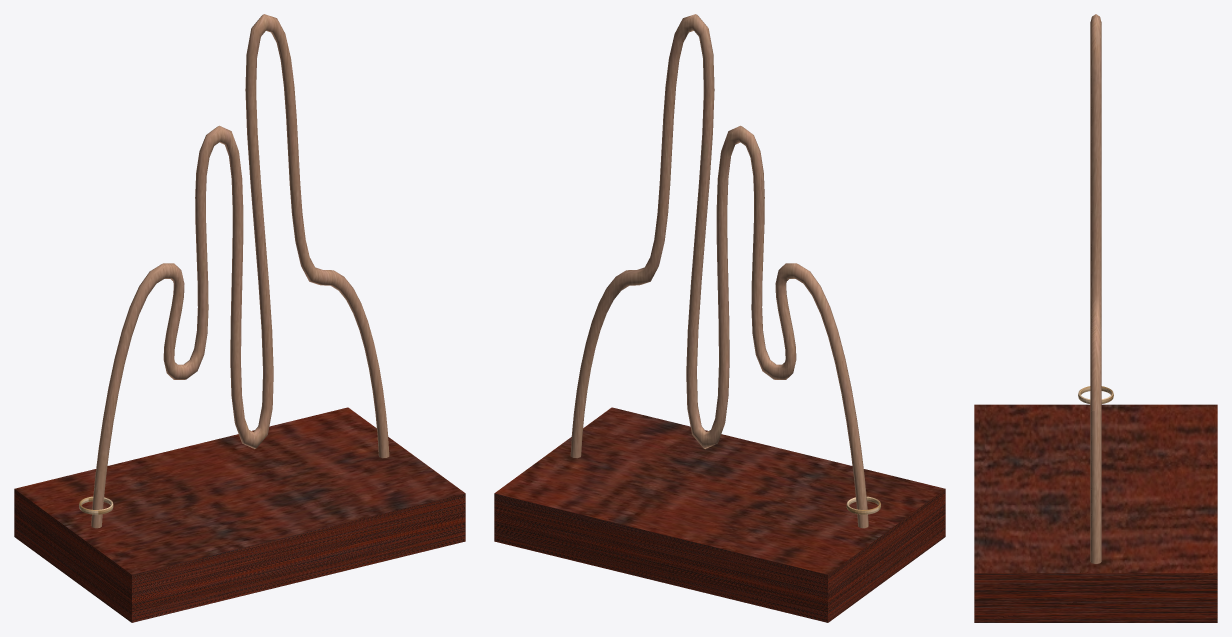
Rendered from WireLoopS.dae.
3 views of the same model, side by side, from view 1: azimuth 30°, elevation 25°; view 2: azimuth 150°, elevation 25°; view 3: azimuth 270°, elevation 25° (orthographic). The views are drawn at different scales.
Parts seen in each view (by area): view 1: Cube_001, Curve; view 2: Cube_001, Curve; view 3: Cube_001, Curve.
Boxes of the visible parts, <box> form: Cube_001: <box>14,407,465,622</box>; Curve: <box>91,14,389,528</box>; Cube_001: <box>494,407,945,622</box>; Curve: <box>570,14,868,528</box>; Cube_001: <box>974,404,1217,622</box>; Curve: <box>1090,14,1101,563</box>.
Bounding box in the file's own units: 7.65 × 4.67 × 11.38.
3 materials, 3 textured.
